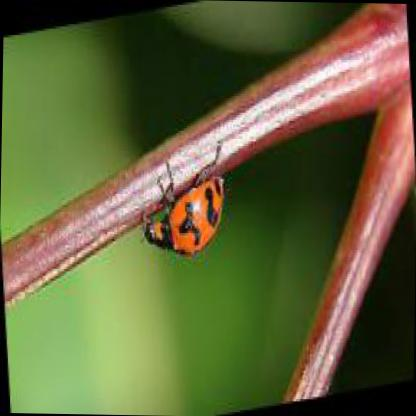uroleucon compositae: (139, 177, 223, 251)
